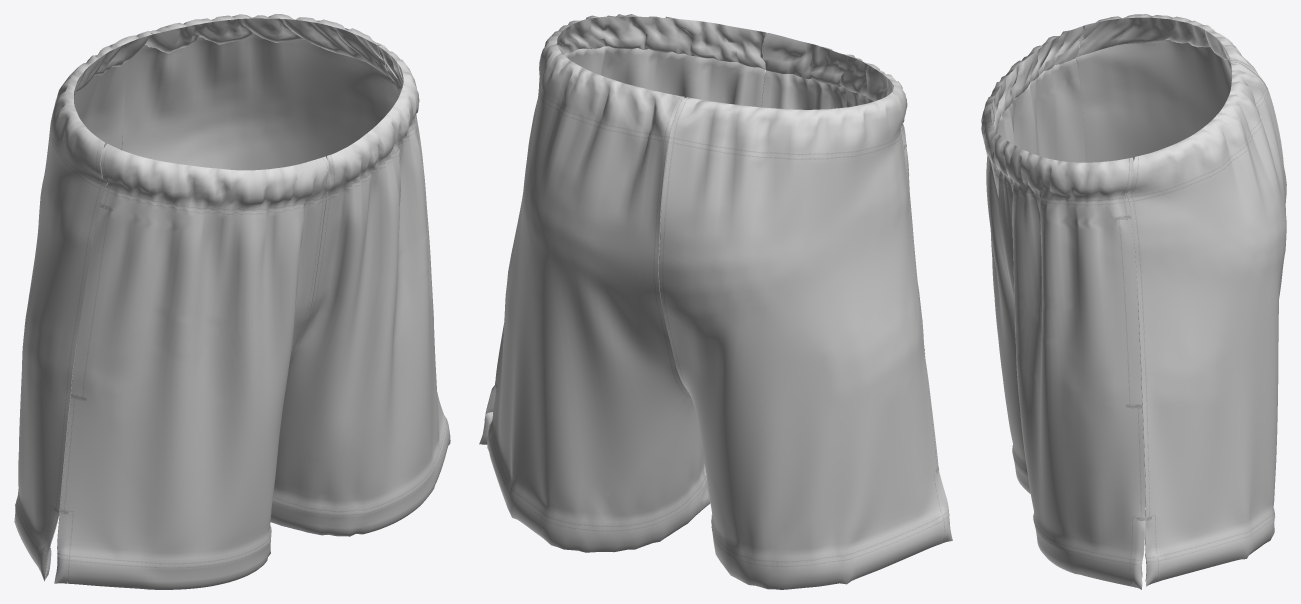
File: kids-baseball-short.glb
3 renders of one model, left to right at view 1: azimuth 30°, elevation 25°; view 2: azimuth 150°, elevation 25°; view 3: azimuth 270°, elevation 25°, orthographic. The views are drawn at different scales.
Parts seen in each view (by area): view 1: Front Right Leg, Front Left Leg, Back Left Leg, Back Right Leg; view 2: Back Right Leg, Back Left Leg, Front Left Leg, Front Right Leg; view 3: Back Left Leg, Front Left Leg, Back Right Leg, Front Right Leg, Topstitch_1632195.
Boxes of the visible parts, box(x1,y1,x2,y2) form: Front Right Leg: box(54, 143, 330, 589); Front Left Leg: box(270, 45, 450, 536); Back Left Leg: box(121, 14, 393, 194); Back Right Leg: box(14, 31, 151, 581); Back Right Leg: box(658, 92, 952, 589); Back Left Leg: box(487, 31, 710, 552); Front Left Leg: box(479, 14, 766, 487); Front Right Leg: box(761, 33, 949, 523); Back Left Leg: box(1126, 62, 1286, 586); Front Left Leg: box(984, 123, 1145, 589); Back Right Leg: box(1075, 14, 1286, 202); Front Right Leg: box(981, 26, 1085, 493); Topstitch_1632195: box(1131, 157, 1149, 520).
Bounding box in the file's own units: 0.3462 × 0.3492 × 0.2229.
Materials: 5 (4 with a texture image).
